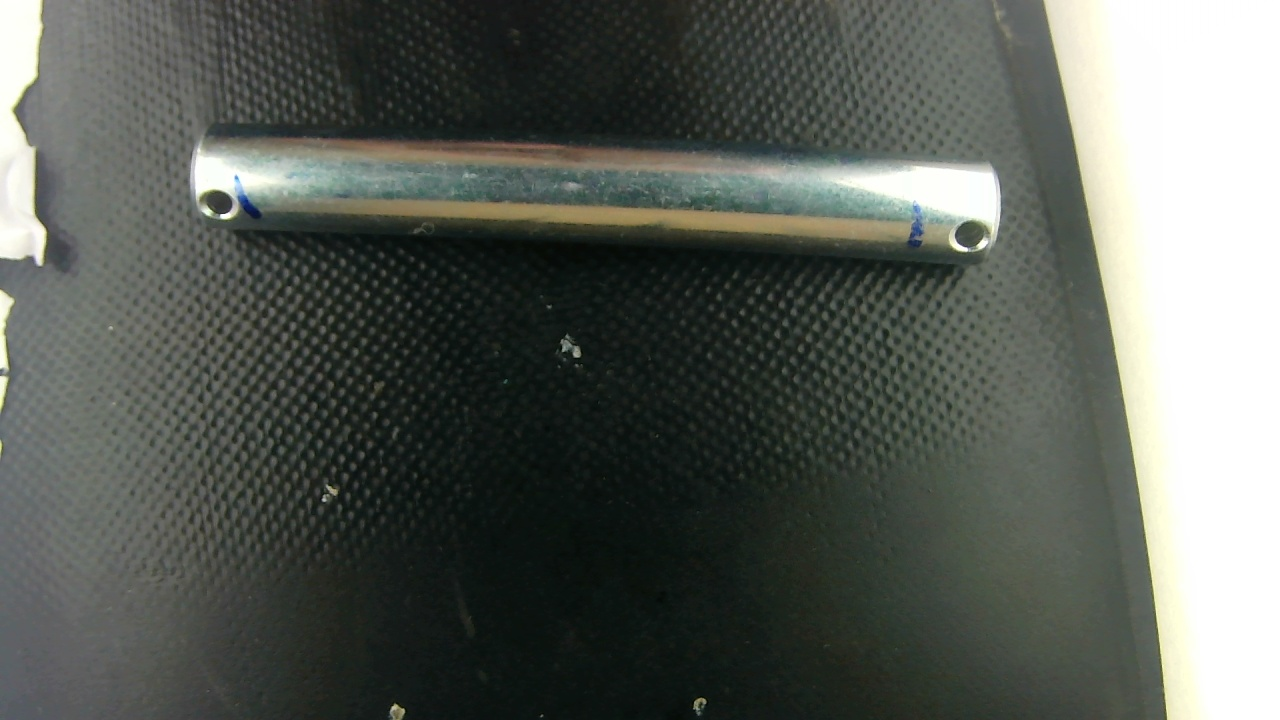Okay_Pin: (190, 125, 1000, 263)
